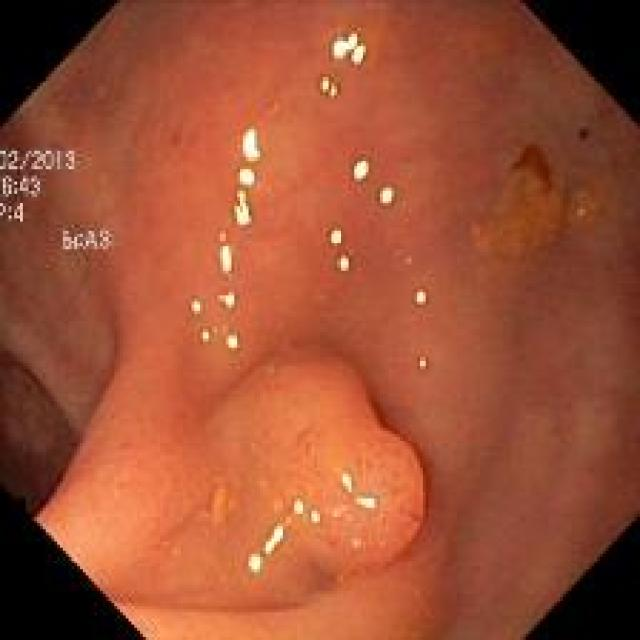Polyps: (210, 359, 424, 589)
